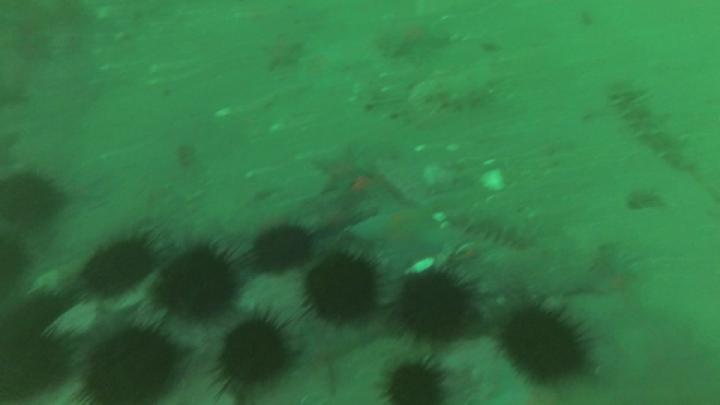echinus: (84, 328, 178, 402), (505, 312, 585, 379), (156, 248, 235, 315), (1, 333, 71, 402), (397, 278, 471, 341), (219, 321, 290, 383), (310, 260, 380, 319), (81, 245, 154, 295), (2, 176, 60, 223), (257, 228, 311, 269), (389, 361, 438, 405)
holothurian: (611, 77, 699, 171), (411, 66, 500, 110), (453, 207, 537, 248)
scallop: (403, 257, 437, 274)
starfish: (349, 201, 457, 259), (308, 144, 374, 193), (263, 35, 300, 71)
